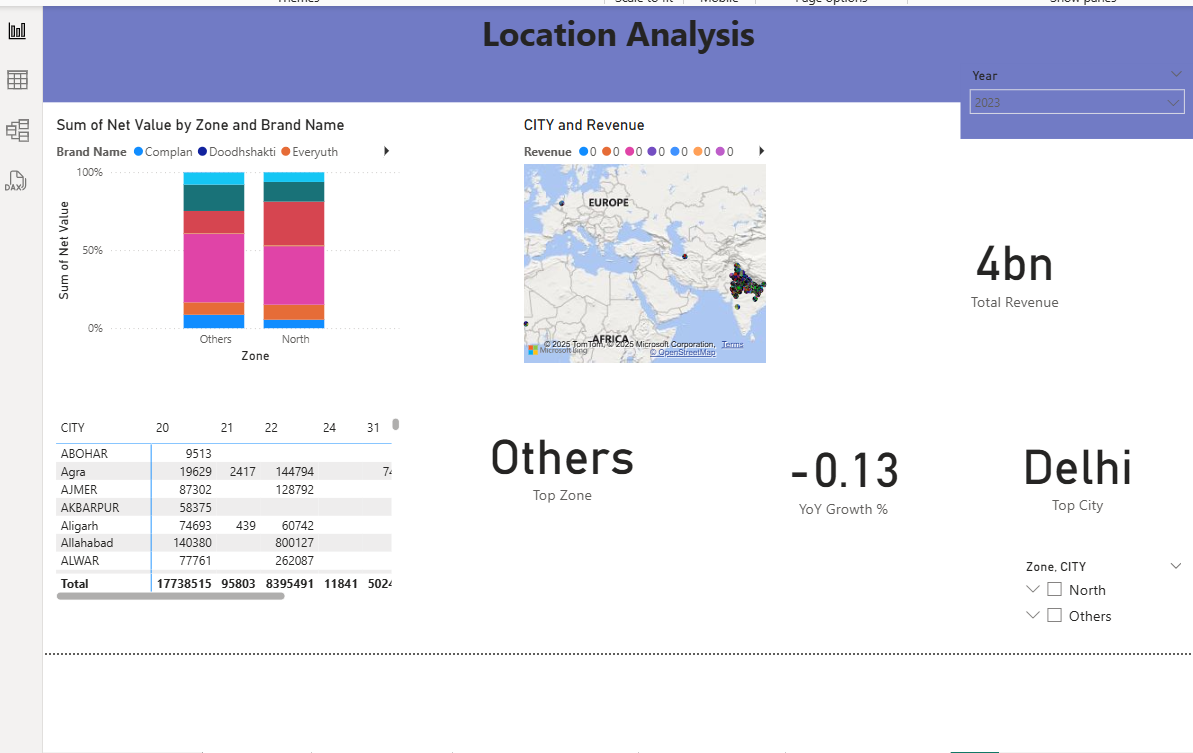

The page's visual inventory and layout, read from the dashboard file:
{"tool":"powerbi","page":{"name":"Location","canvas":[1280,720],"ordinal":0},"visuals":[{"type":"map","fields":{"Category":["Company Data.CITY"],"Series":["Company Data.Revenue"]},"box":[529.7,122.1,279.9,279.9],"z":0},{"type":"hundredPercentStackedColumnChart","fields":{"Category":["Company Data.Zone"],"Series":["Company Data.Brand Name"],"Y":["Sum(Company Data.Net Value)"]},"box":[9.6,122.1,392.5,279.9],"z":1000},{"type":"pivotTable","fields":{"Rows":["Company Data.CITY"],"Columns":["Company Data.DISTRIBUTION CHANNEL"],"Values":["Sum(Company Data.Units Sold)"]},"box":[9.6,454.2,392.5,212.7],"z":2000},{"type":"card","fields":{"Values":["Company Data.Total Revenue"]},"box":[941.3,220.9,279.9,138.6],"z":3000},{"type":"card","fields":{"Values":["Company Data.Top City"]},"box":[1037.4,454.2,227.8,126.2],"z":4000},{"type":"card","fields":{"Values":["Company Data.Top Zone"]},"box":[437.7,454.2,279.9,104.3],"z":5000},{"type":"card","fields":{"Values":["Company Data.YoY Growth %"]},"box":[752,458.3,279.9,126.2],"z":6000},{"type":"slicer","fields":{"Values":["Company Data.Zone","Company Data.CITY"]},"box":[1081.3,610.6,199,109.8],"z":7000},{"type":"textbox","box":[0,0,1280.3,107],"z":8001},{"type":"slicer","fields":{"Values":["DateTable.Date.Variation.Date Hierarchy.Year"]},"box":[1020.9,64.5,259.3,83.7],"z":8002}]}

Visuals, with their boxes on the page's 1280x720 design canvas (x1, y1, x2, y2). These are canvas units, not pixel positions in the 1193x753 screenshot, which may show the page scaled, cropped or inside an application window:
map - Company Data.CITY x Company Data.Revenue: <bbox>530, 122, 810, 402</bbox>
hundredPercentStackedColumnChart - Company Data.Zone x Company Data.Brand Name: <bbox>10, 122, 402, 402</bbox>
pivotTable - Company Data.CITY x Company Data.DISTRIBUTION CHANNEL: <bbox>10, 454, 402, 667</bbox>
card - Company Data.Total Revenue: <bbox>941, 221, 1221, 360</bbox>
card - Company Data.Top City: <bbox>1037, 454, 1265, 580</bbox>
card - Company Data.Top Zone: <bbox>438, 454, 718, 558</bbox>
card - Company Data.YoY Growth %: <bbox>752, 458, 1032, 584</bbox>
slicer - Company Data.Zone x Company Data.CITY: <bbox>1081, 611, 1280, 720</bbox>
textbox: <bbox>0, 0, 1280, 107</bbox>
slicer - DateTable.Date.Variation.Date Hierarchy.Year: <bbox>1021, 64, 1280, 148</bbox>
